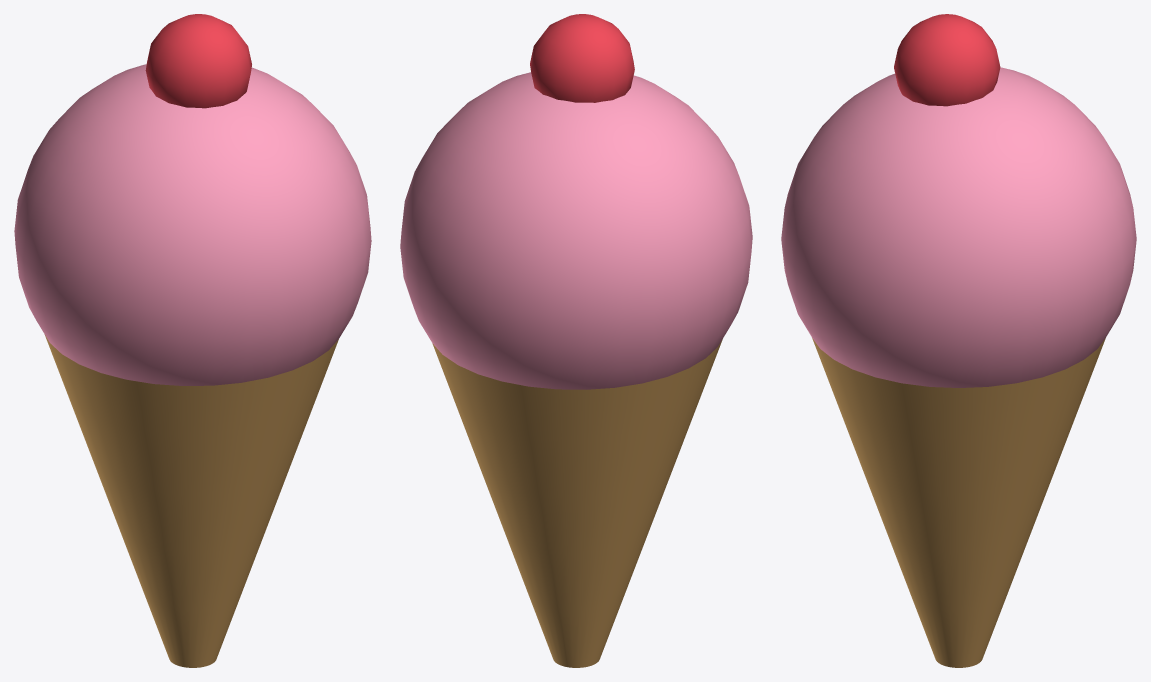
File: icecream_cone.fbx
3 renders of one model, left to right at view 1: azimuth 30°, elevation 25°; view 2: azimuth 150°, elevation 25°; view 3: azimuth 270°, elevation 25°, orthographic.
Parts seen in each view (by area): view 1: Sphere112, Cone018, Sphere113; view 2: Sphere112, Cone018, Sphere113; view 3: Sphere112, Cone018, Sphere113.
Part boxes in pixels (x1=…): Sphere112: x1=14, y1=64, x2=371, y2=385; Cone018: x1=44, y1=334, x2=338, y2=667; Sphere113: x1=145, y1=14, x2=251, y2=108; Sphere112: x1=400, y1=72, x2=752, y2=389; Cone018: x1=432, y1=339, x2=722, y2=667; Sphere113: x1=530, y1=14, x2=634, y2=102; Sphere112: x1=781, y1=67, x2=1136, y2=387; Cone018: x1=812, y1=338, x2=1105, y2=667; Sphere113: x1=894, y1=14, x2=1000, y2=106.
Bounding box in the file's own units: 3 × 5.95 × 3.
